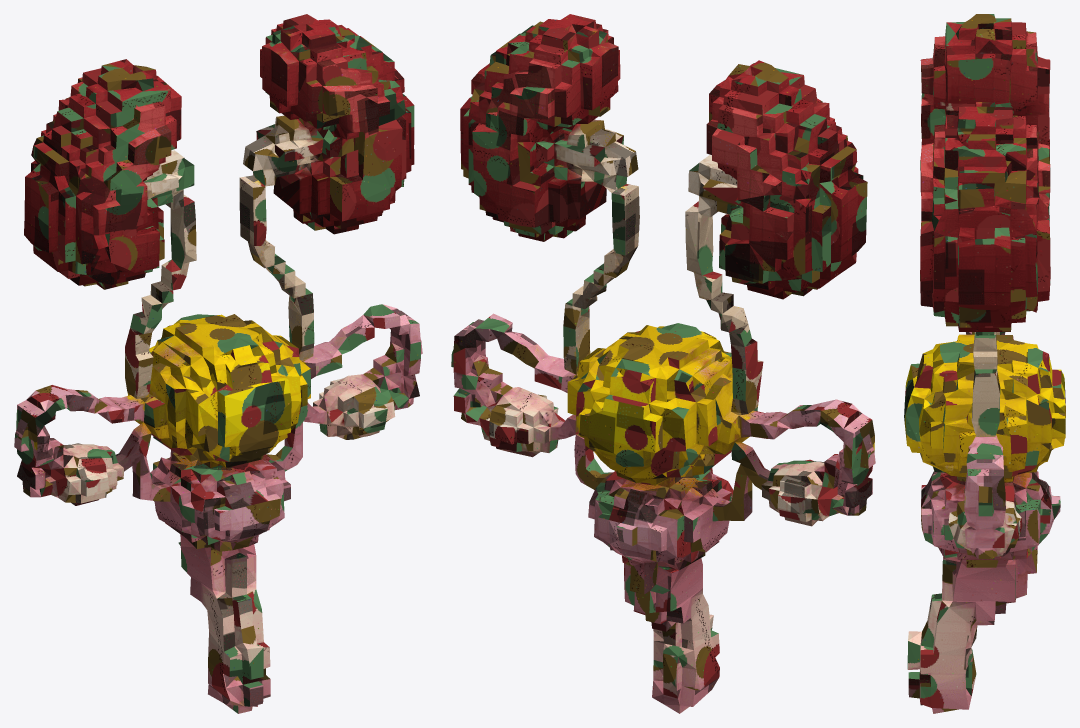
3 renders of one model, left to right at view 1: azimuth 30°, elevation 25°; view 2: azimuth 150°, elevation 25°; view 3: azimuth 270°, elevation 25°, orthographic. The views are drawn at different scales.
Parts seen in each view (by area): view 1: node_0; view 2: node_0; view 3: node_0.
Part boxes in pixels (x1=…): node_0: x1=14, y1=14, x2=422, y2=713; node_0: x1=451, y1=14, x2=875, y2=713; node_0: x1=904, y1=14, x2=1065, y2=713.
Size of the model in its own units: 0.7366 by 1.13 by 0.258.
1 material, 1 textured.
